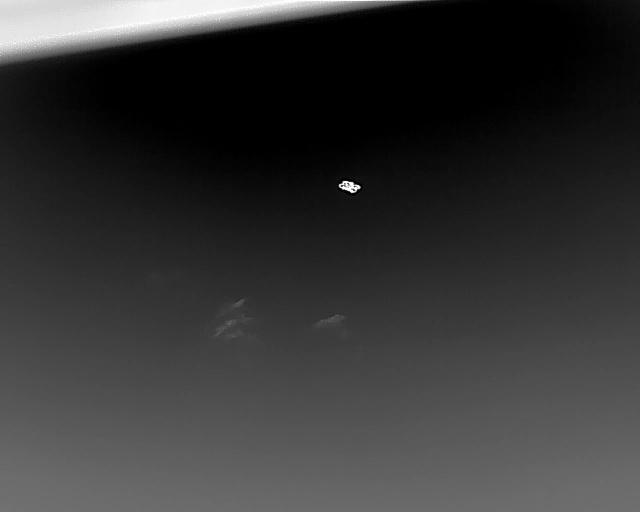fpv-drone: (338, 180, 360, 193)
